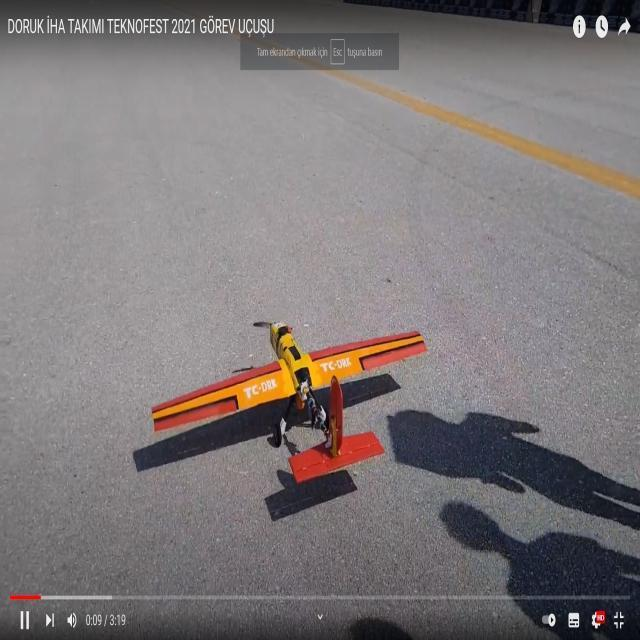UAV: (148, 316, 489, 478)
